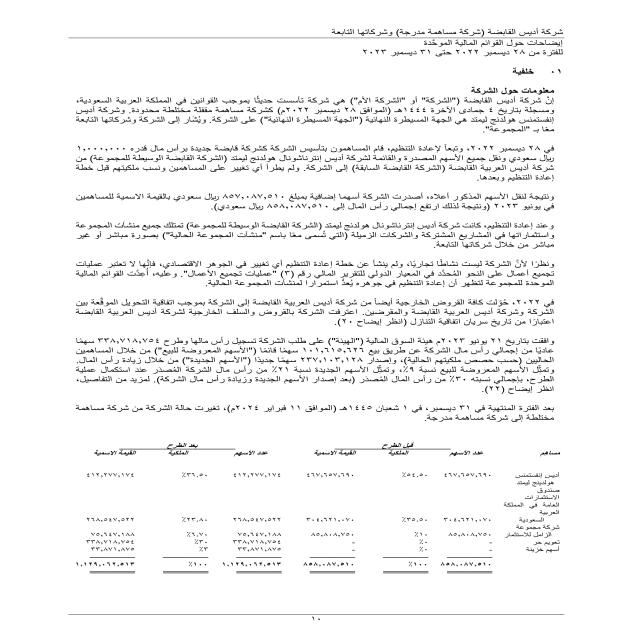notes: (413, 38, 577, 46)
table: (30, 432, 610, 613)
